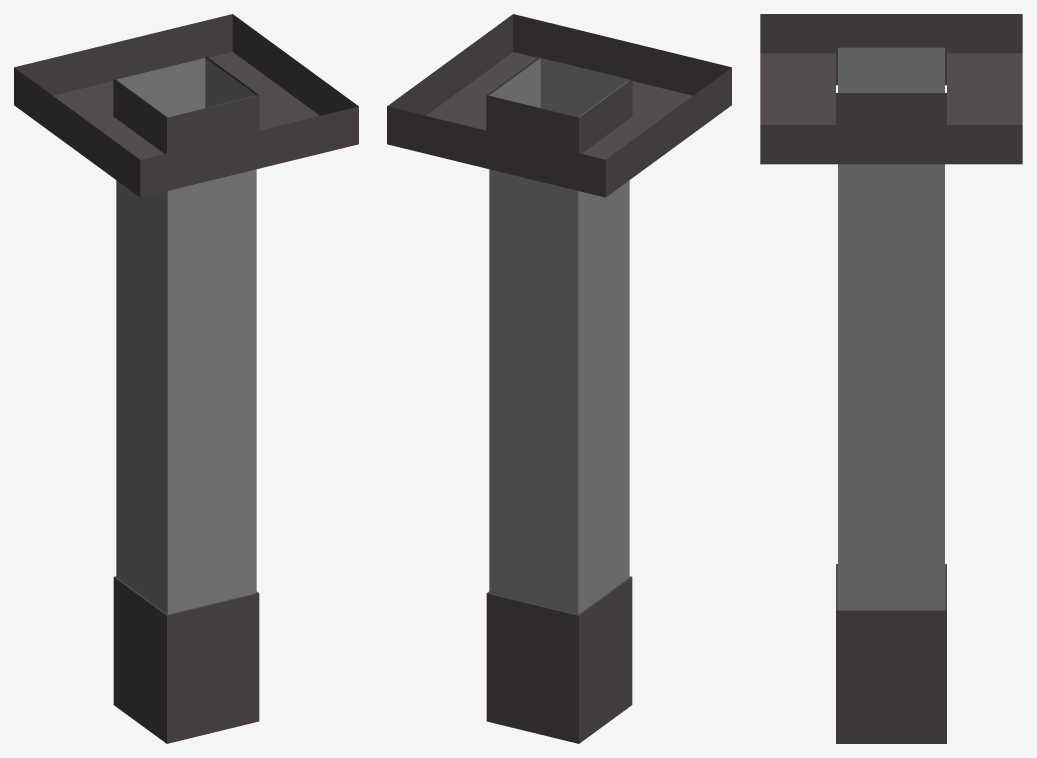
File: SM_pillar_generic_02.fbx
3 renders of one model, left to right at view 1: azimuth 30°, elevation 25°; view 2: azimuth 150°, elevation 25°; view 3: azimuth 270°, elevation 25°, orthographic. The views are drawn at different scales.
Parts seen in each view (by area): view 1: pillar_generic_02; view 2: pillar_generic_02; view 3: pillar_generic_02.
Boxes of the visible parts, x1,y1,x2,y2 form: pillar_generic_02: (14, 14, 358, 743); pillar_generic_02: (387, 14, 731, 743); pillar_generic_02: (760, 14, 1022, 743).
Bounding box in the file's own units: 125 × 343 × 125.
